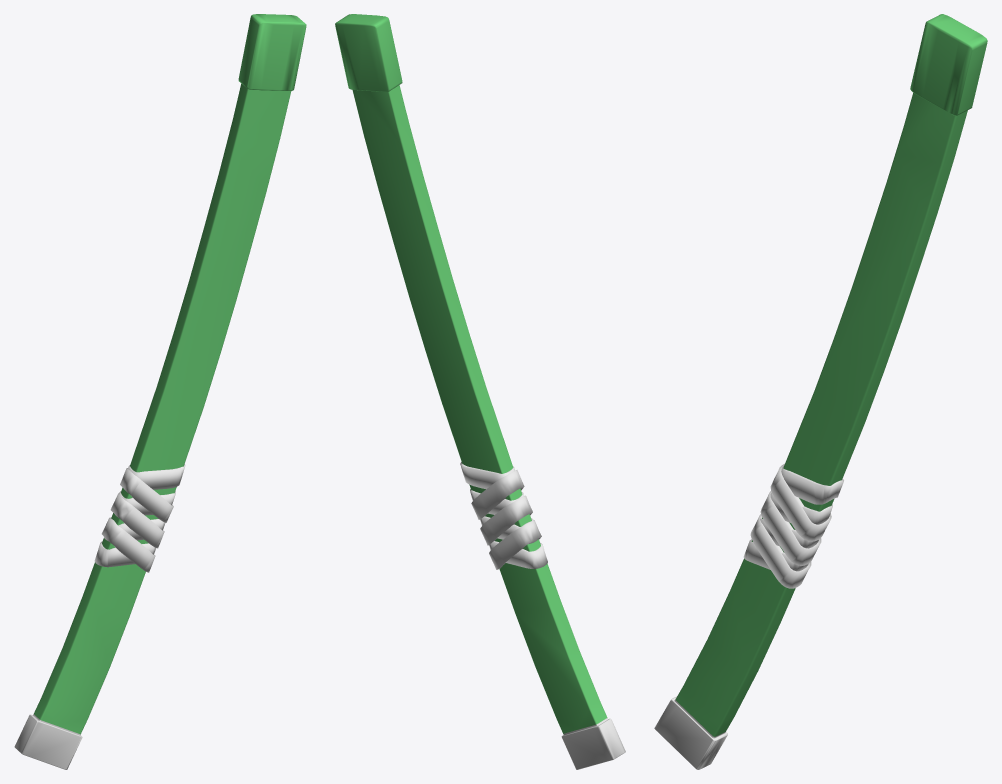
The model's file is katanasheath1.fbx.
3 renders of one model, left to right at view 1: azimuth 30°, elevation 25°; view 2: azimuth 150°, elevation 25°; view 3: azimuth 330°, elevation 25°, orthographic. The views are drawn at different scales.
Parts seen in each view (by area): view 1: Circle; view 2: Circle; view 3: Circle.
Boxes of the visible parts, box(x1,y1,x2,y2) form: Circle: box(14, 14, 306, 769); Circle: box(335, 14, 625, 769); Circle: box(654, 14, 987, 769).
Size of the model in its own units: 22.16 by 52.25 by 2.37.
